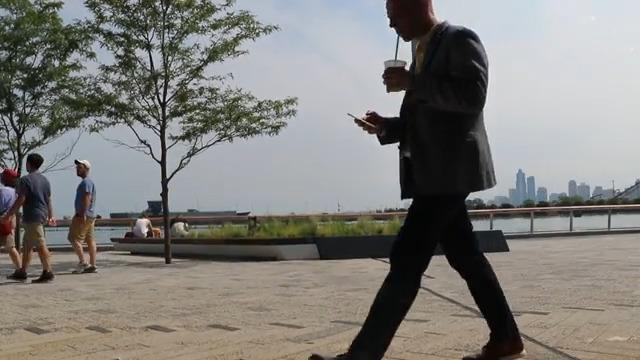no-helmet: (386, 0, 437, 42), (26, 153, 43, 173), (75, 159, 91, 179), (43, 173, 43, 173)
